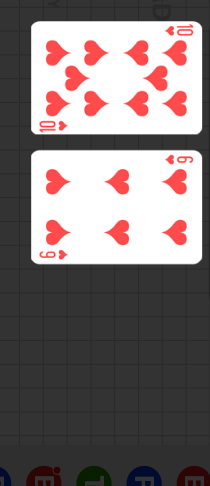10H: (38, 119, 69, 133)
6H: (38, 248, 70, 261)
